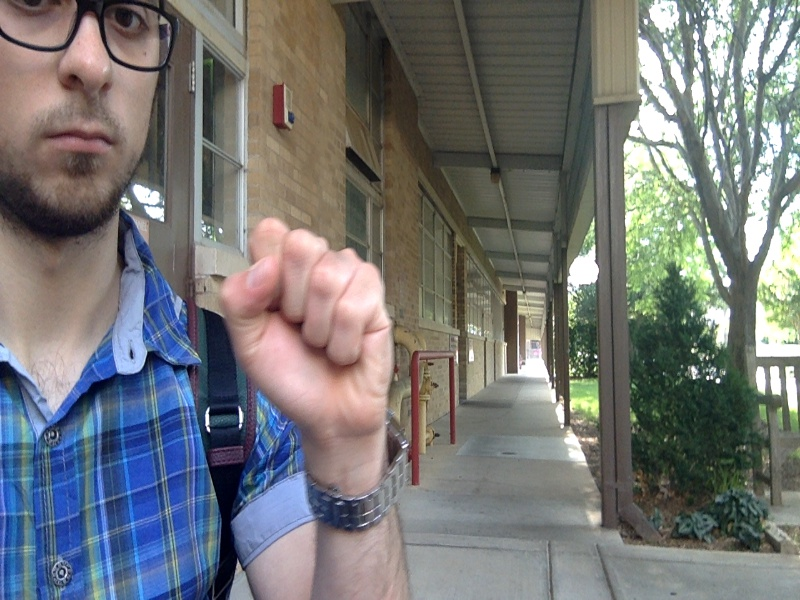0-hand: (224, 221, 395, 445)
